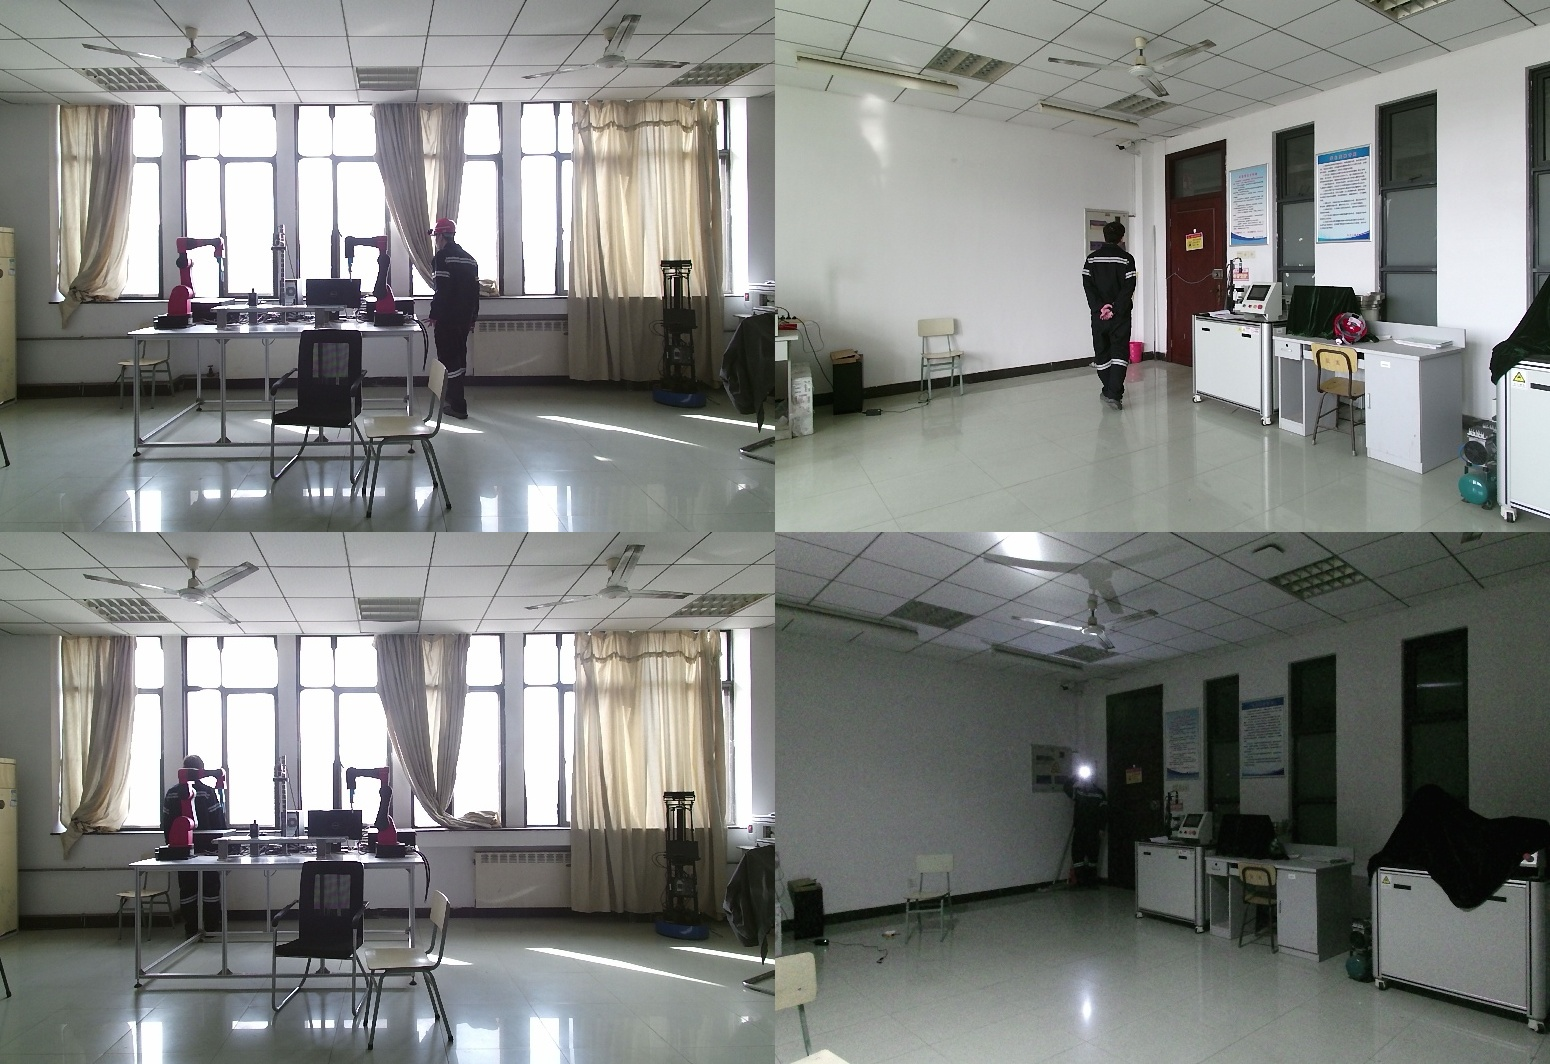person: (1078, 222, 1145, 417), (163, 754, 230, 946), (422, 220, 483, 424), (1061, 768, 1107, 891)
